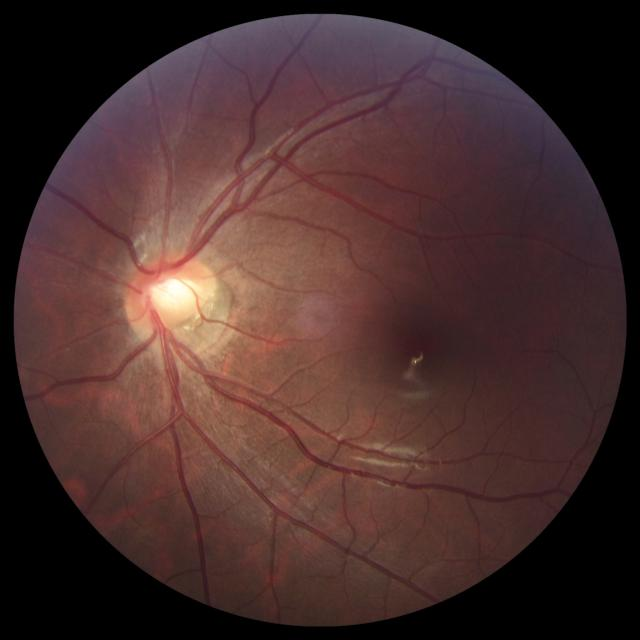OC: (148, 275, 196, 311)
OD: (124, 254, 213, 334)
